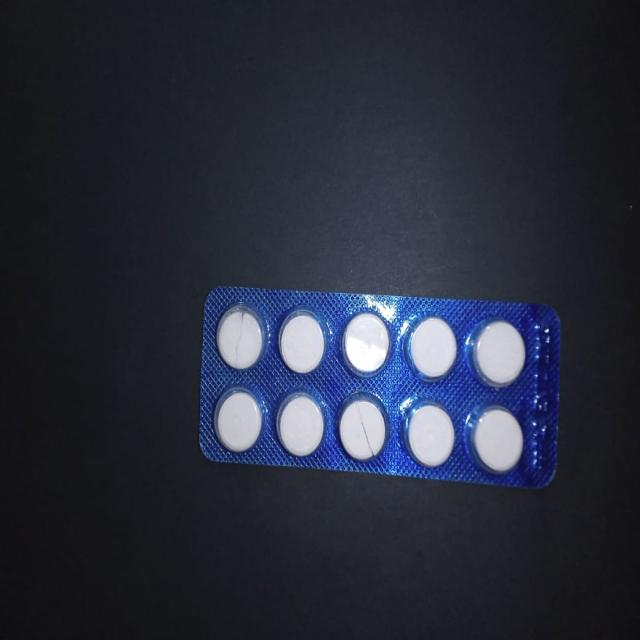defect: (334, 391, 392, 466), (214, 302, 268, 373)
